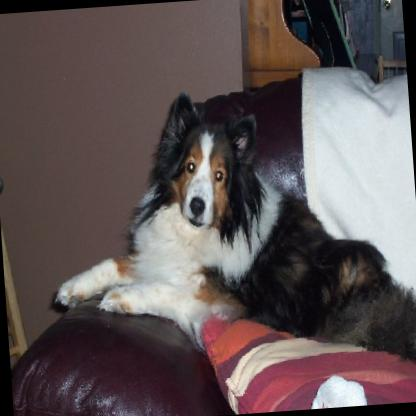Shetland_sheepdog: (37, 70, 416, 391)
